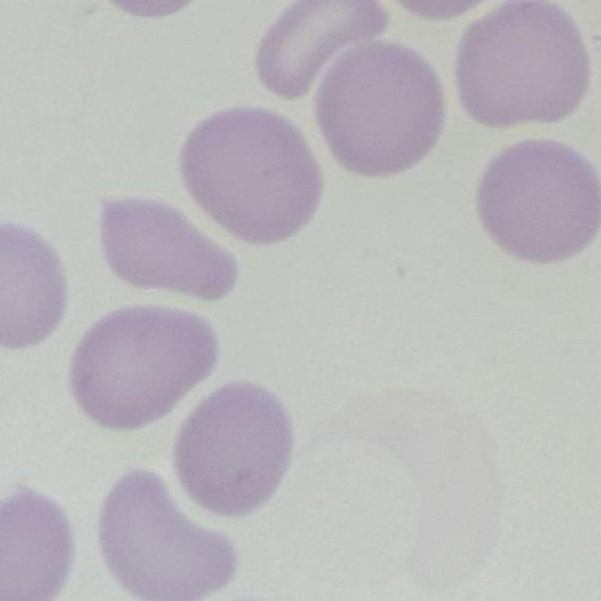Uninfected: (183, 105, 323, 244), (98, 472, 236, 601), (72, 307, 218, 428), (318, 42, 446, 177), (458, 0, 586, 127), (172, 384, 294, 516), (99, 197, 239, 304), (479, 139, 601, 259), (257, 0, 390, 96)
